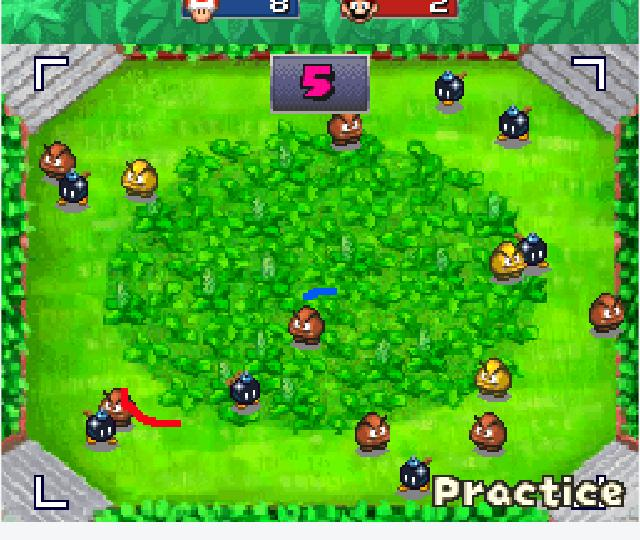bomb: (493, 104, 539, 148), (221, 368, 265, 411), (433, 68, 472, 116), (53, 167, 93, 209), (79, 407, 118, 448), (394, 455, 436, 493), (515, 230, 555, 269)
goomba: (463, 408, 514, 458), (582, 289, 630, 338), (471, 352, 516, 404), (484, 238, 531, 287), (352, 407, 395, 458), (287, 302, 329, 353), (118, 155, 162, 202), (98, 385, 139, 431), (37, 139, 78, 182), (326, 108, 366, 148)
